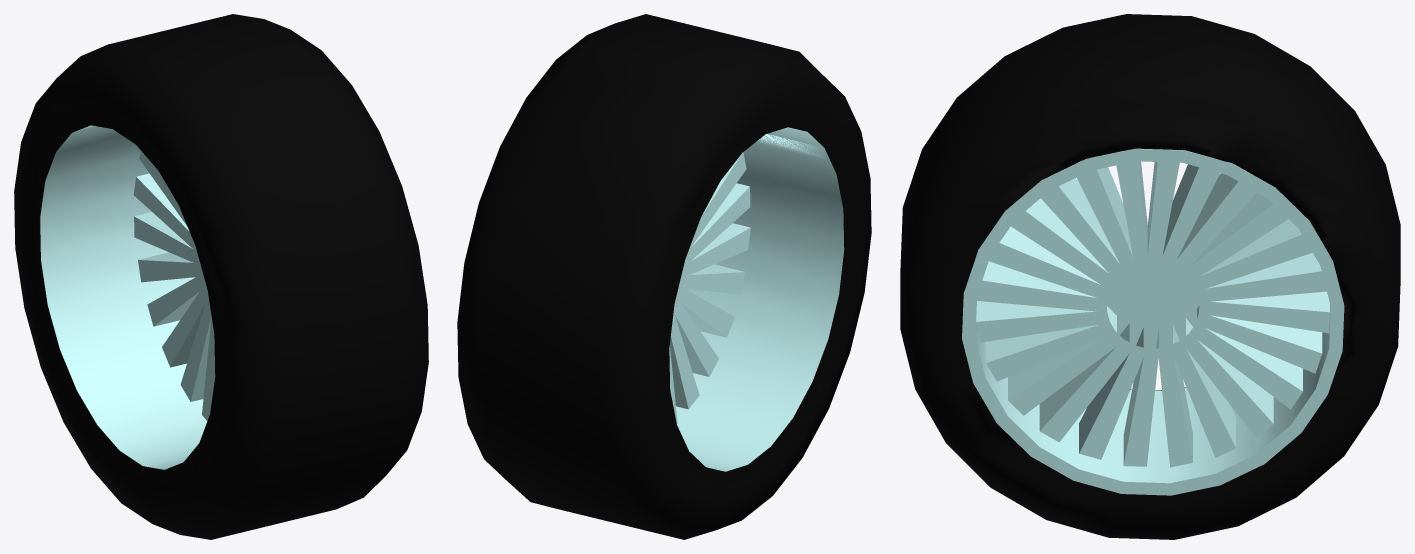
File: wheel.obj
3 renders of one model, left to right at view 1: azimuth 30°, elevation 25°; view 2: azimuth 150°, elevation 25°; view 3: azimuth 270°, elevation 25°, orthographic.
Parts seen in each view (by area): view 1: instance_5.002_ID722; view 2: instance_5.002_ID722; view 3: instance_5.002_ID722.
Boxes of the visible parts, x1=… form: instance_5.002_ID722: x1=14, y1=14, x2=428, y2=539; instance_5.002_ID722: x1=457, y1=14, x2=871, y2=539; instance_5.002_ID722: x1=900, y1=14, x2=1400, y2=539.
Bounding box in the file's own units: 0.47 × 1.07 × 1.05.
